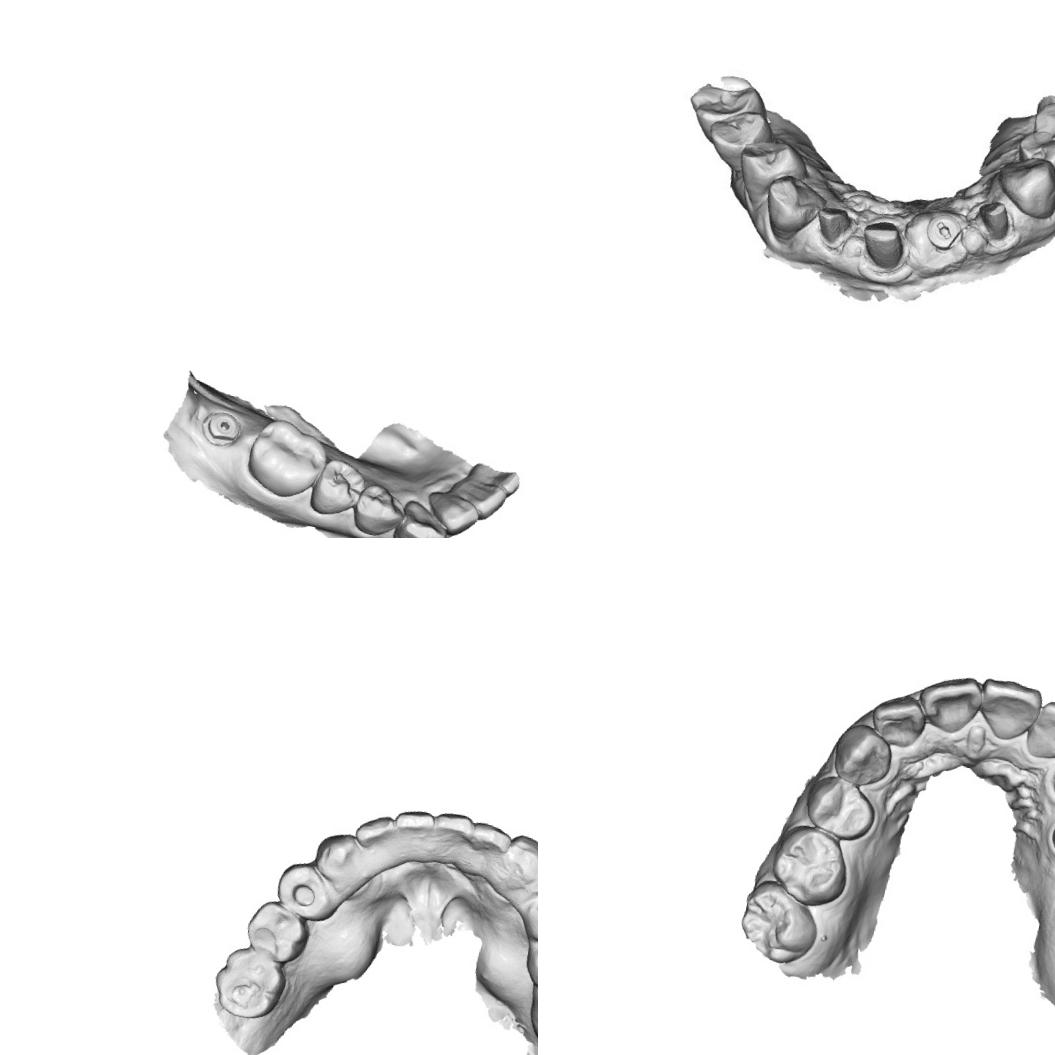canine: (823, 717, 898, 792), (996, 153, 1055, 224), (766, 177, 824, 239), (309, 826, 363, 883), (391, 494, 452, 538), (499, 831, 538, 898)
crown: (858, 215, 910, 270), (972, 194, 1018, 244), (812, 203, 853, 243)
implant: (198, 406, 244, 448)
implant_minus: (920, 210, 970, 256)
incisor: (914, 670, 990, 742), (972, 673, 1042, 742), (864, 687, 926, 749), (442, 474, 512, 524), (420, 486, 483, 538), (388, 802, 437, 860), (428, 808, 476, 862), (465, 819, 513, 872), (1022, 695, 1055, 766), (462, 460, 521, 499), (350, 809, 398, 856)
molar: (239, 412, 334, 506), (732, 874, 826, 968), (762, 818, 856, 912), (208, 943, 291, 1024)
premolar: (797, 766, 880, 846), (239, 894, 314, 966), (272, 856, 339, 924), (305, 454, 368, 522), (732, 137, 804, 196), (703, 104, 774, 163), (347, 477, 408, 538), (1018, 125, 1055, 168), (520, 927, 538, 997), (521, 878, 538, 948), (1033, 98, 1055, 142)
